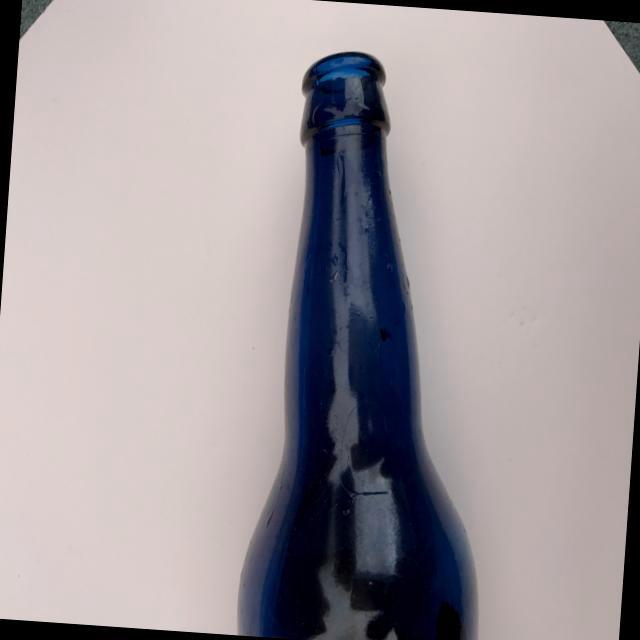glass: (221, 36, 528, 640)
